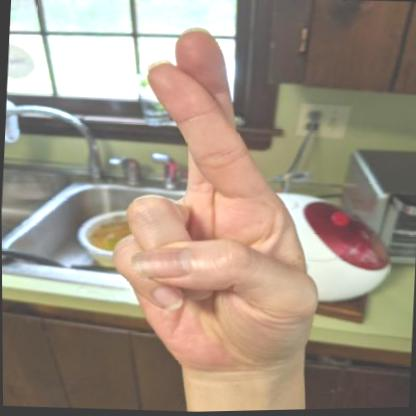R: (100, 19, 339, 387)
